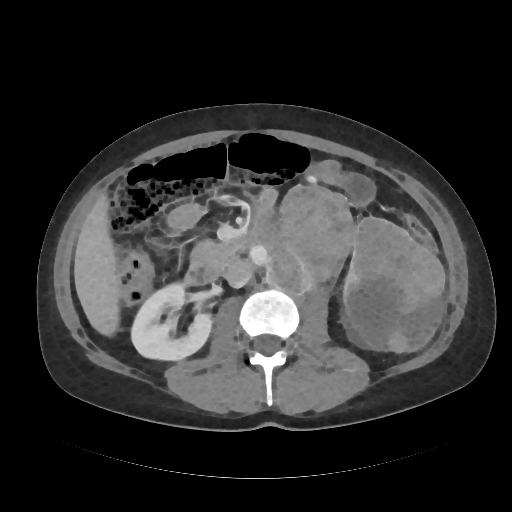Lesion: (341, 219, 449, 320)
